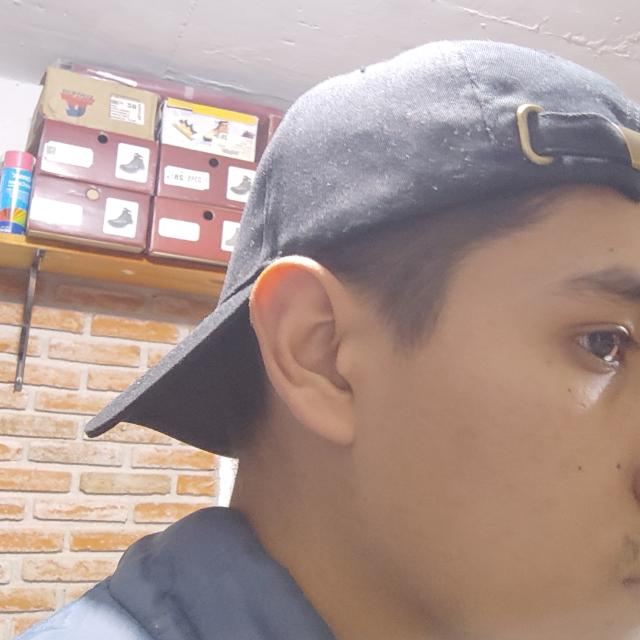ear: (249, 256, 391, 445)
